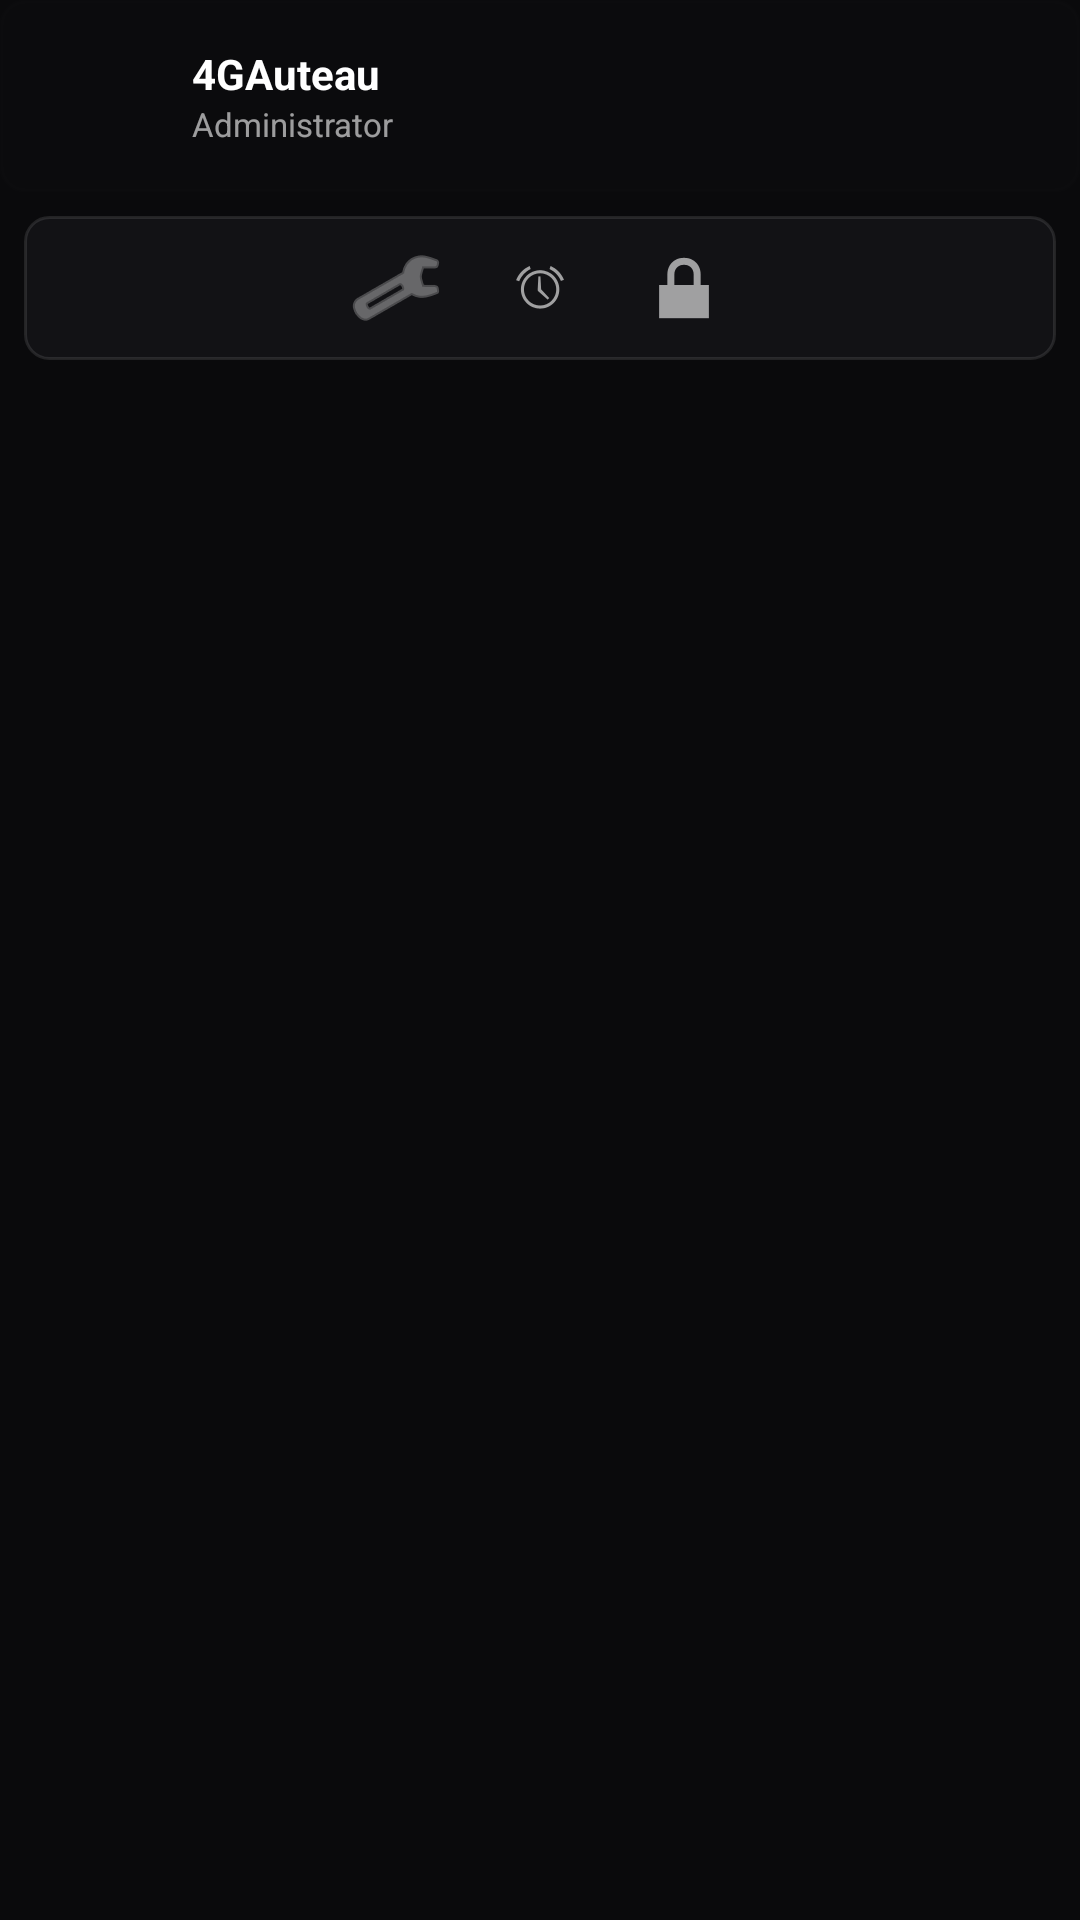

Named icons in this screenshot (1080 × 1920) and their centers, [x,y]:
lock: [684,288]
preferences: [396,288]
